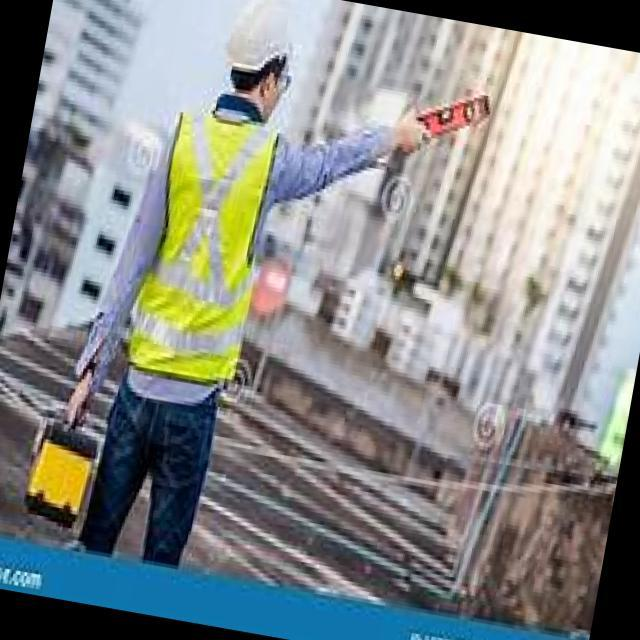not-gloved: (385, 85, 432, 168)
